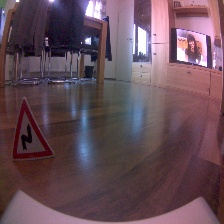vorsicht: (11, 95, 55, 161)
